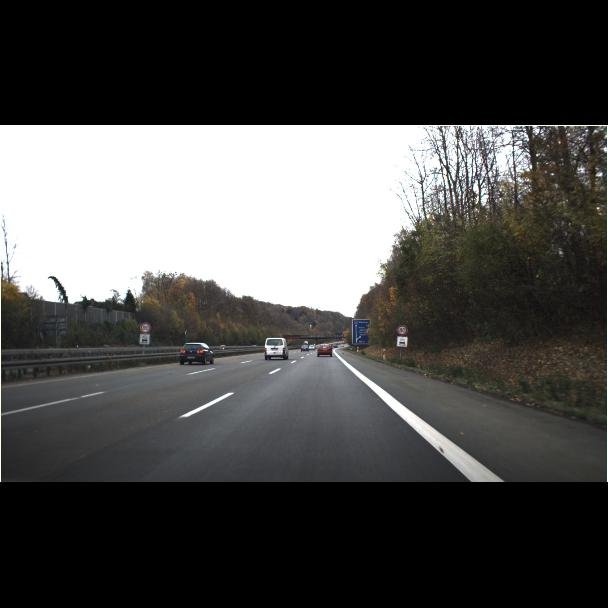NO-speed limit 80: (139, 323, 407, 336)
